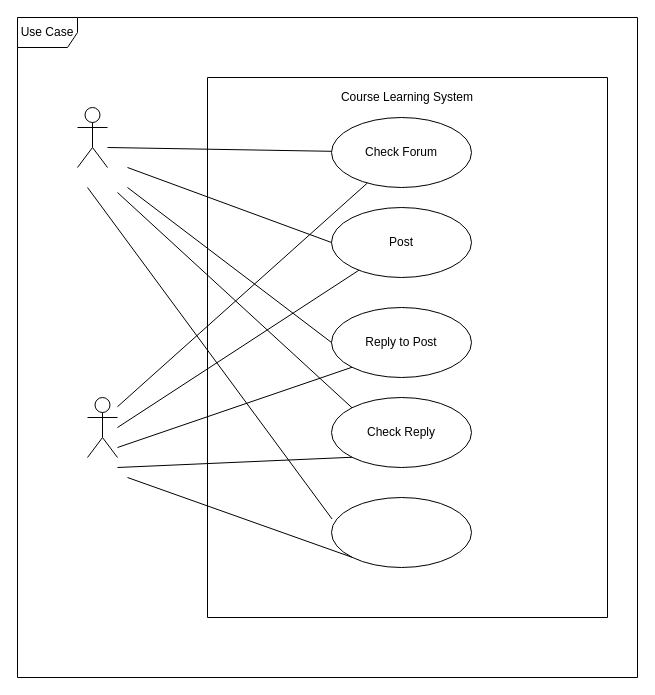
The diagram is 655 pixels wide and 695 high, and some of its shapes have lost their labels. The shapes that lost their labels are listed below. From the top down, each one's centre as x and y in pixels, then its label:
point (92, 137): Student
point (102, 427): Teacher
point (401, 532): Check Post
